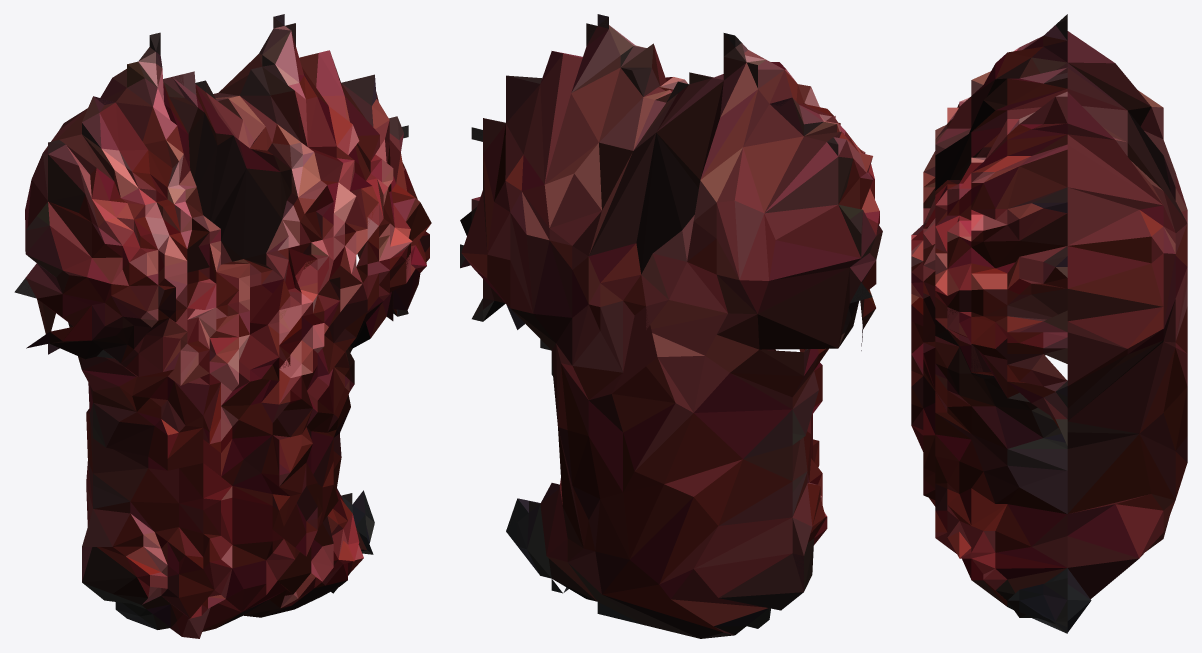
File: B02_2_crimson_dragonscale_body.obj
3 views of the same model, side by side, from view 1: azimuth 30°, elevation 25°; view 2: azimuth 150°, elevation 25°; view 3: azimuth 270°, elevation 25° (orthographic). The views are drawn at different scales.
Parts seen in each view (by area): view 1: B02_2_crimson_dragonscale_body; view 2: B02_2_crimson_dragonscale_body; view 3: B02_2_crimson_dragonscale_body.
Part boxes in pixels (box(x1,y1,x2,y2)): B02_2_crimson_dragonscale_body: box(14, 14, 431, 638); B02_2_crimson_dragonscale_body: box(460, 14, 882, 638); B02_2_crimson_dragonscale_body: box(911, 14, 1187, 633).
Bounding box in the file's own units: 36 × 51 × 23.
